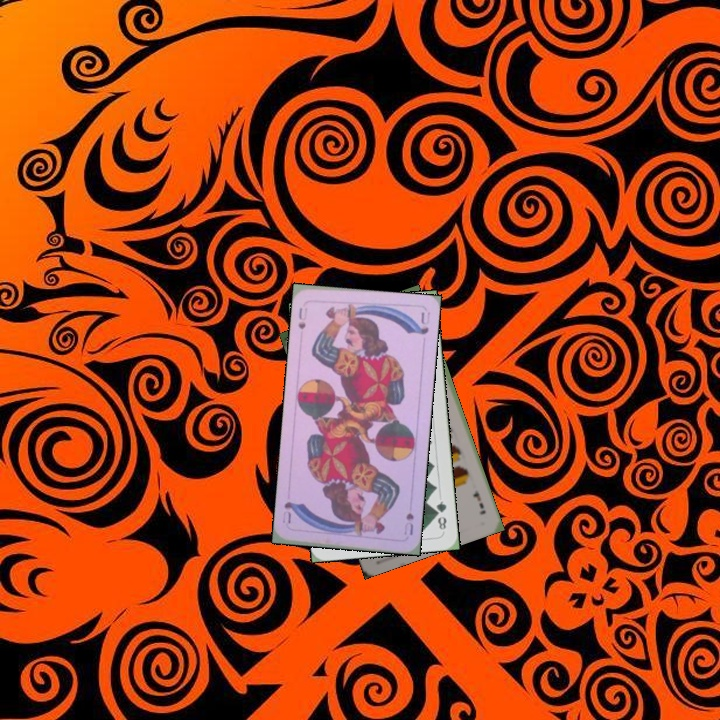E7: (469, 487, 488, 517)
G8: (431, 497, 449, 532)
SU: (400, 508, 416, 538), (294, 304, 308, 332)
